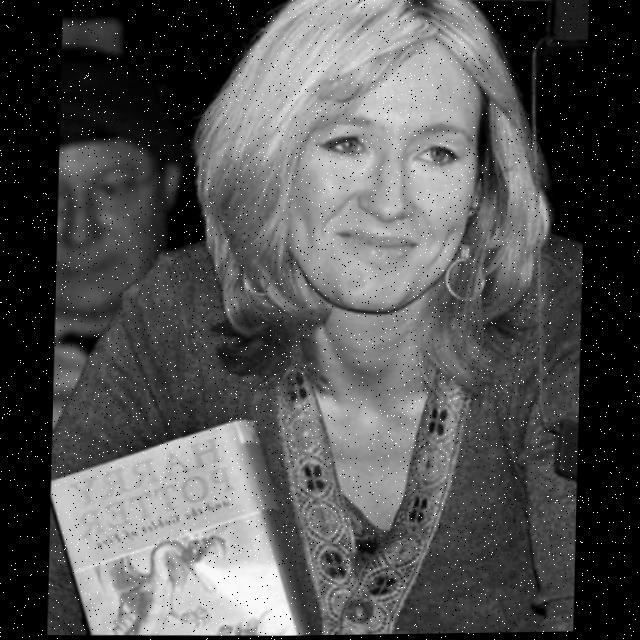face: (227, 5, 522, 333)
